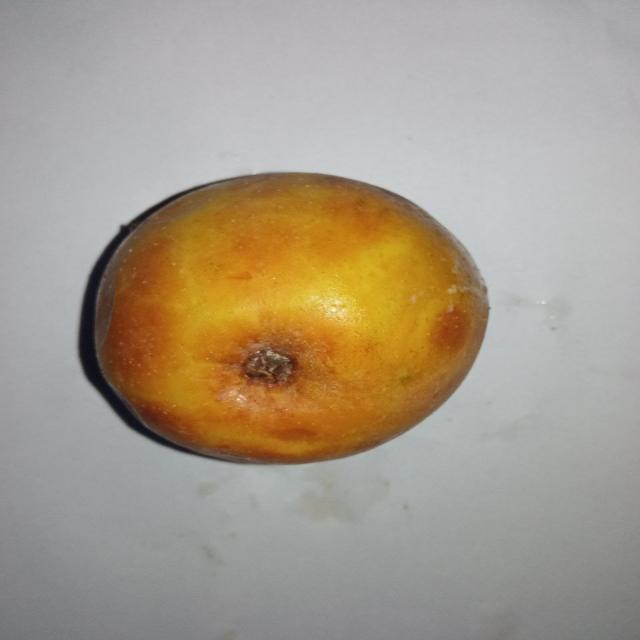rotten_apple: (90, 170, 493, 466)
